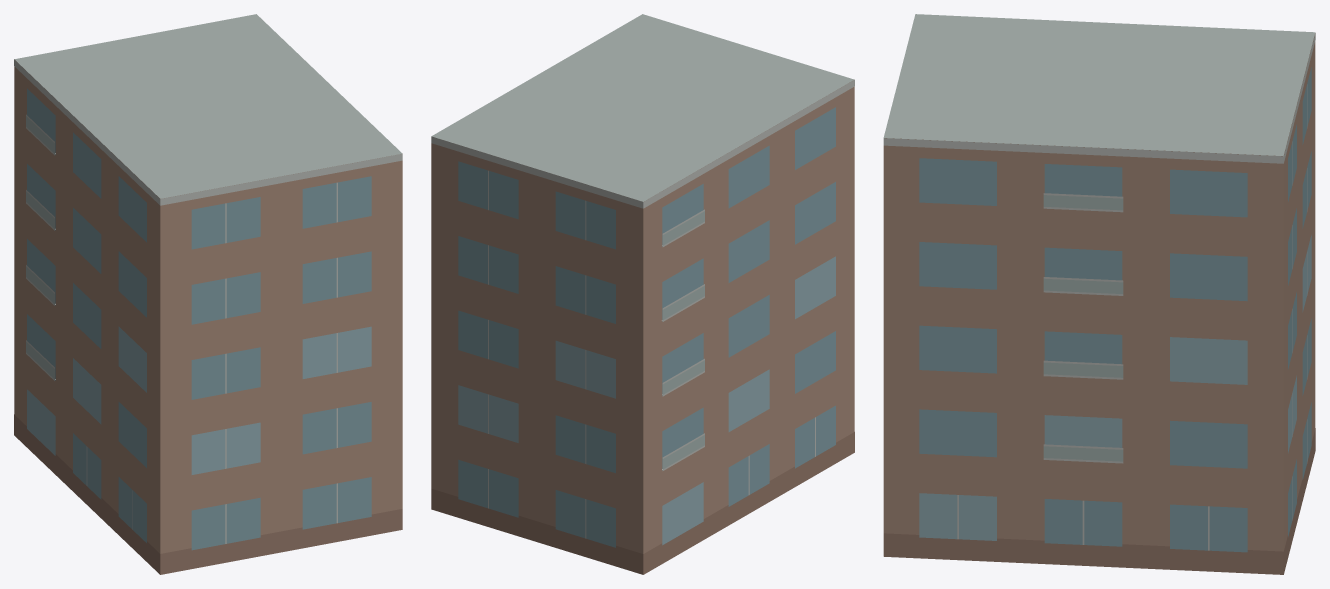
Rendered from survey-upis-32911825.glb.
3 renders of one model, left to right at view 1: azimuth 30°, elevation 25°; view 2: azimuth 150°, elevation 25°; view 3: azimuth 270°, elevation 25°, orthographic. The views are drawn at different scales.
Visible parts, largest first — view 1: survey-upis-32911825.tmp; view 2: survey-upis-32911825.tmp; view 3: survey-upis-32911825.tmp.
Boxes of the visible parts, x1,y1,x2,y2 form: survey-upis-32911825.tmp: (14, 14, 402, 574); survey-upis-32911825.tmp: (431, 14, 854, 574); survey-upis-32911825.tmp: (883, 14, 1315, 574).
Bounding box in the file's own units: 9.73 × 13.35 × 12.49.
